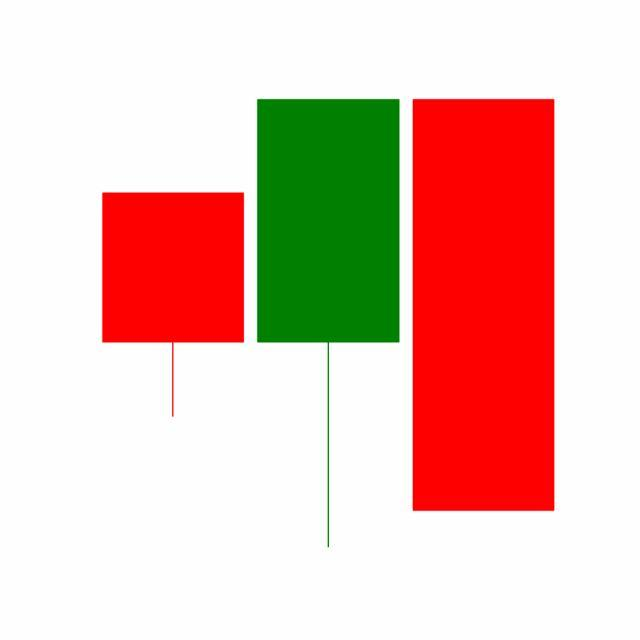Marubozu: (406, 96, 562, 516)
